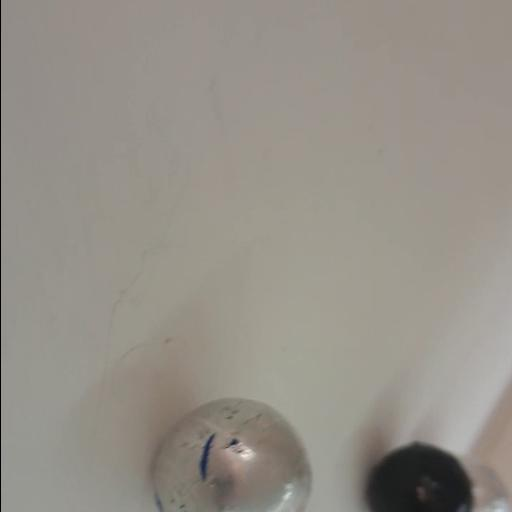alive: (149, 394, 313, 512), (464, 462, 508, 510)
dead: (366, 439, 476, 512)
